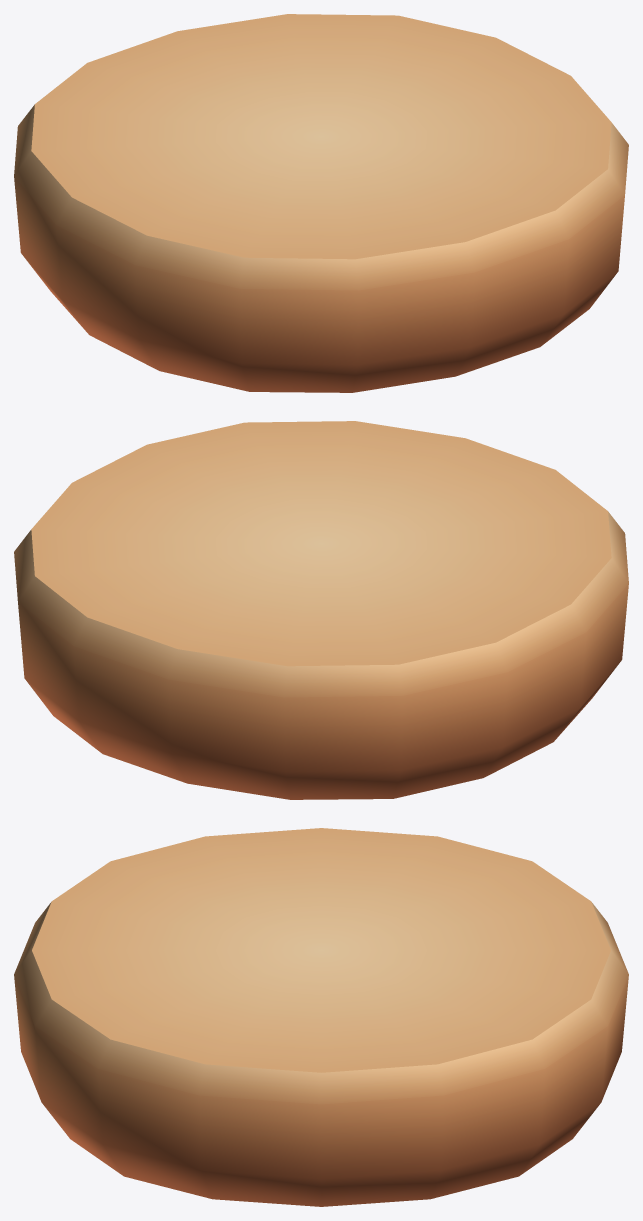
File: kay-food_ingredient_bun_bottom.glb
3 renders of one model, top to bottom at view 1: azimuth 30°, elevation 25°; view 2: azimuth 150°, elevation 25°; view 3: azimuth 270°, elevation 25°, orthographic.
Parts seen in each view (by area): view 1: food_ingredient_bun_bottom; view 2: food_ingredient_bun_bottom; view 3: food_ingredient_bun_bottom.
Boxes of the visible parts, x1,y1,x2,y2 form: food_ingredient_bun_bottom: (14,14,628,392); food_ingredient_bun_bottom: (14,421,628,799); food_ingredient_bun_bottom: (14,828,628,1206).
Bounding box in the file's own units: 0.22 × 0.0634 × 0.22.
1 material, 1 textured.
